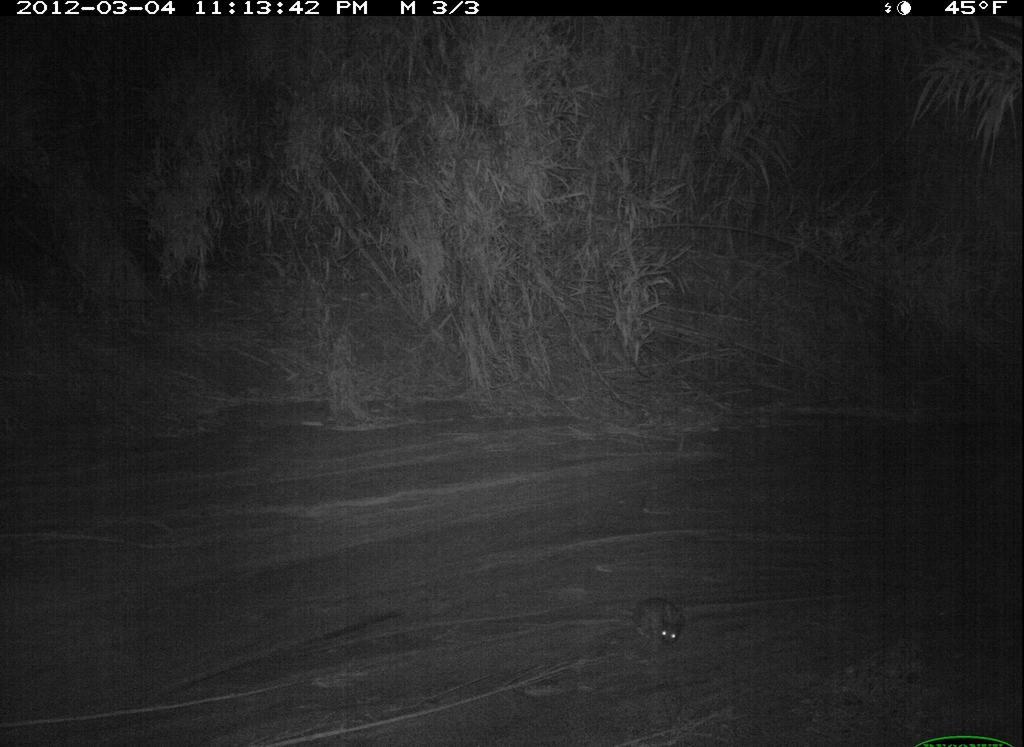rabbit: (625, 584, 694, 667)
